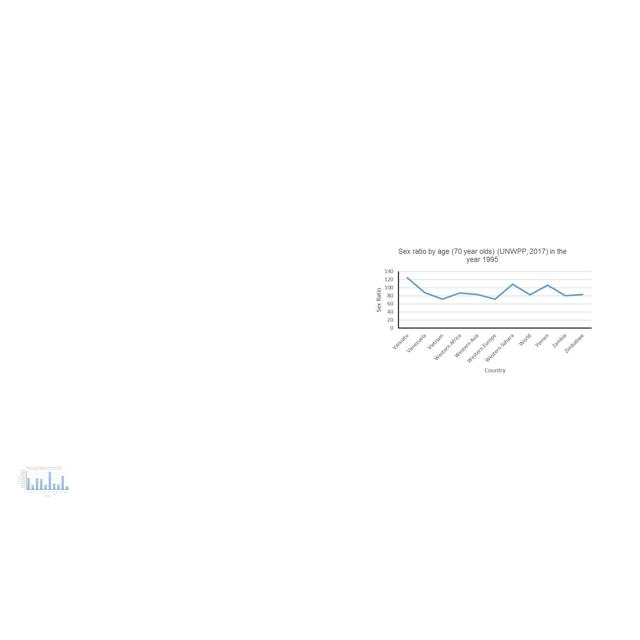Graph: (370, 244, 595, 377), (18, 466, 70, 497)
